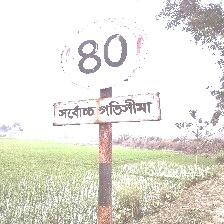Speed-limit: (56, 15, 154, 125)
